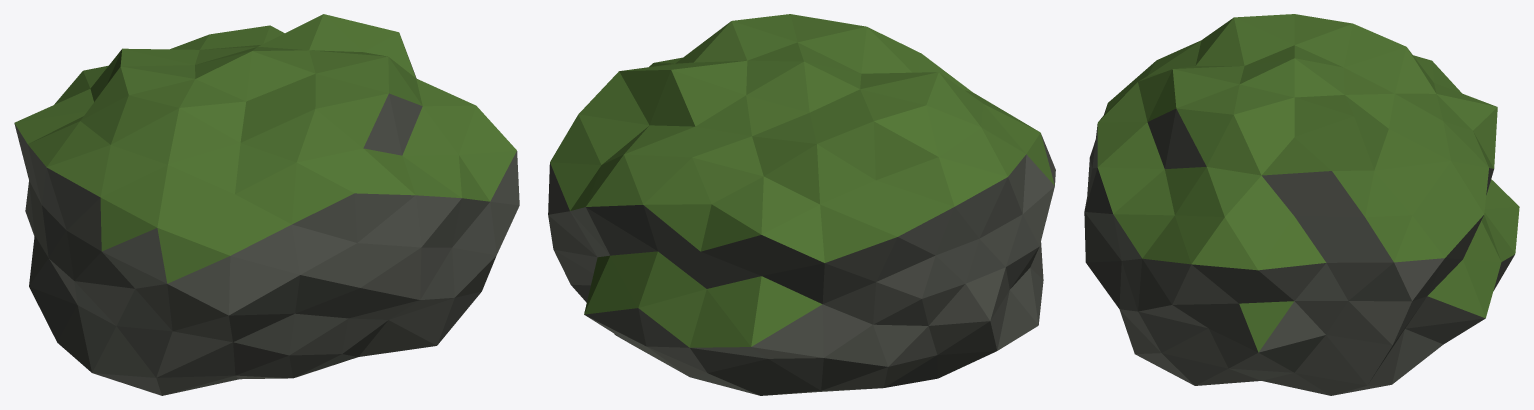
Rendered from SW_Rock_MossyBoulder.obj.
3 renders of one model, left to right at view 1: azimuth 30°, elevation 25°; view 2: azimuth 150°, elevation 25°; view 3: azimuth 270°, elevation 25°, orthographic. The views are drawn at different scales.
Parts seen in each view (by area): view 1: SW_Rock_MossyBoulder; view 2: SW_Rock_MossyBoulder; view 3: SW_Rock_MossyBoulder.
Part boxes in pixels (<box>): SW_Rock_MossyBoulder: <box>14,14,519,395</box>; SW_Rock_MossyBoulder: <box>548,14,1055,395</box>; SW_Rock_MossyBoulder: <box>1084,14,1519,395</box>.
Size of the model in its own units: 6.22 by 3.79 by 5.72.
